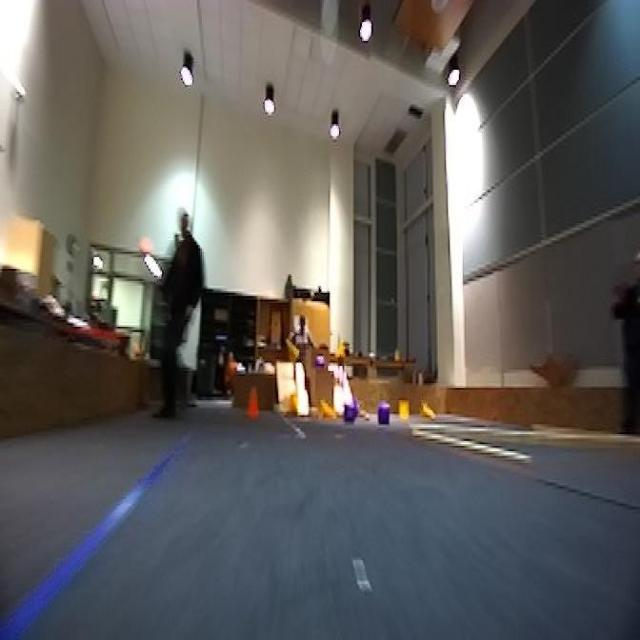frc_cone: (316, 400, 336, 427), (397, 398, 410, 428), (333, 334, 347, 361), (420, 404, 437, 426), (288, 340, 304, 362), (288, 390, 301, 415)
frc_cube: (376, 400, 392, 429), (312, 349, 327, 371), (342, 402, 355, 426)
